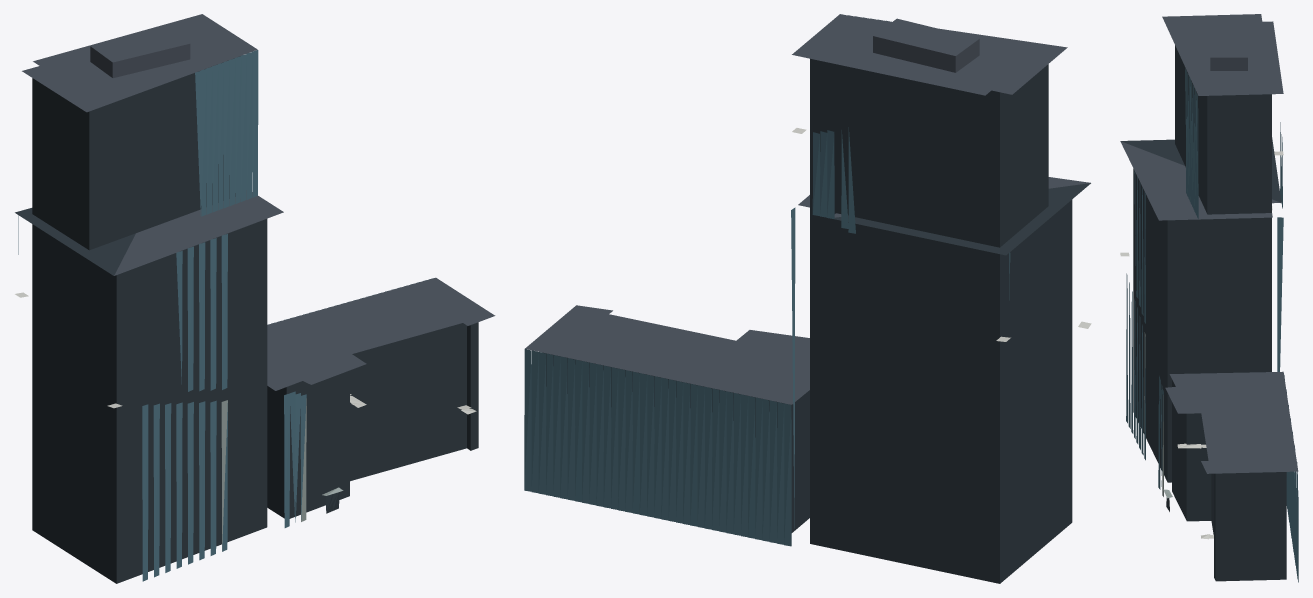
The model's file is vinoly.lod2.glb.
3 renders of one model, left to right at view 1: azimuth 30°, elevation 25°; view 2: azimuth 150°, elevation 25°; view 3: azimuth 270°, elevation 25°, orthographic. The views are drawn at different scales.
Visible parts, largest first — view 1: lod2; view 2: lod2; view 3: lod2.
Boxes of the visible parts, bbox=[...] form: lod2: bbox=[15, 14, 495, 583]; lod2: bbox=[524, 14, 1091, 583]; lod2: bbox=[1120, 14, 1298, 582].
Bounding box in the file's own units: 91.15 × 94.05 × 37.74.
